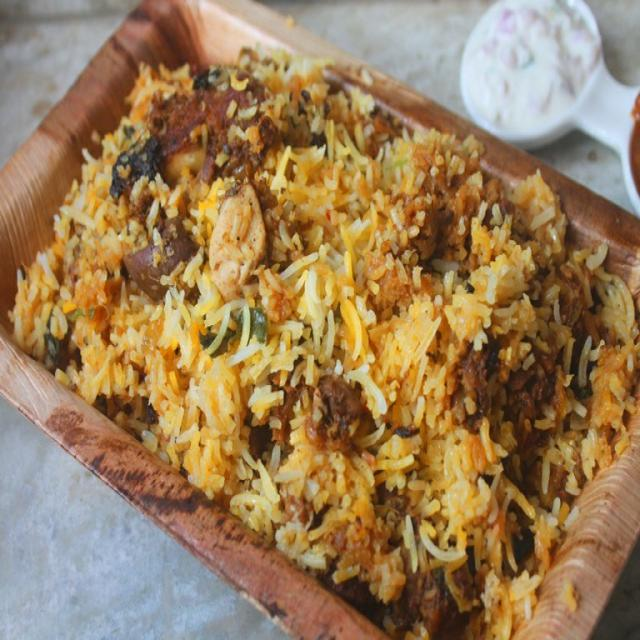Biryani: (9, 46, 640, 639)
